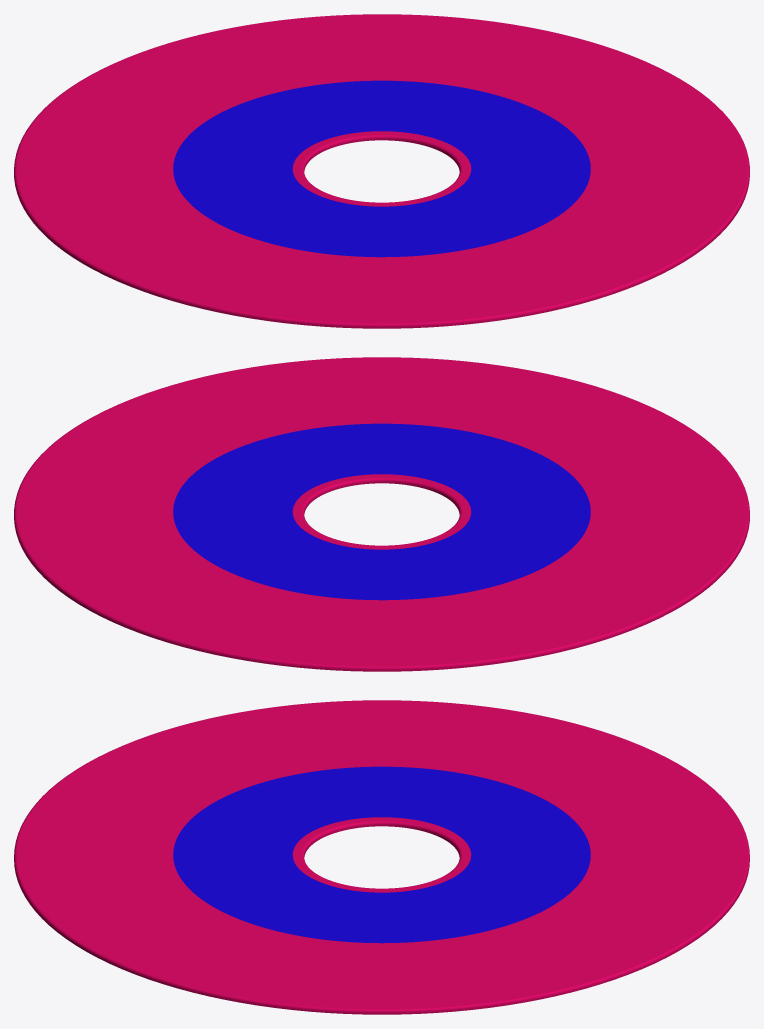
The model's file is 45_Record.fbx.
3 renders of one model, top to bottom at view 1: azimuth 30°, elevation 25°; view 2: azimuth 150°, elevation 25°; view 3: azimuth 270°, elevation 25°, orthographic.
Parts seen in each view (by area): view 1: #REC0001_45_You_Belong_To_Me_(Comstock); view 2: #REC0001_45_You_Belong_To_Me_(Comstock); view 3: #REC0001_45_You_Belong_To_Me_(Comstock).
Part boxes in pixels (x1=…): #REC0001_45_You_Belong_To_Me_(Comstock): x1=14, y1=14, x2=749, y2=328; #REC0001_45_You_Belong_To_Me_(Comstock): x1=14, y1=357, x2=749, y2=671; #REC0001_45_You_Belong_To_Me_(Comstock): x1=14, y1=700, x2=749, y2=1014.
Bounding box in the file's own units: 0.18 × 0.00115 × 0.18.
